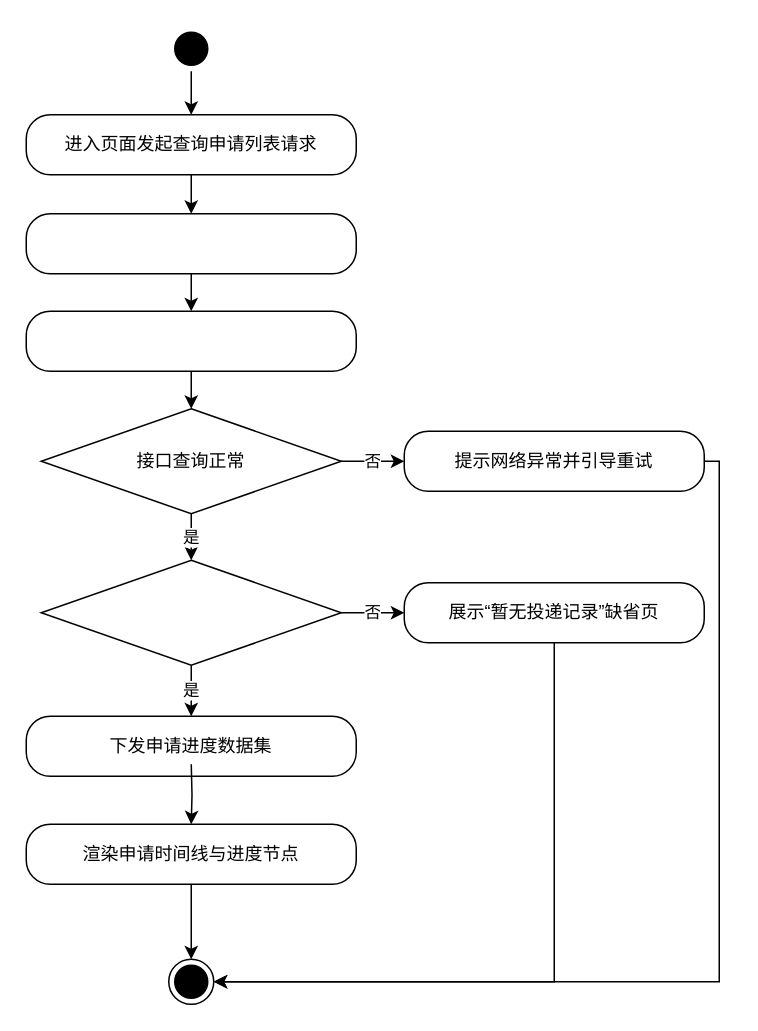
This 758x1031 diagram has some shape labels left out. The centre of each missing label's shape, as x and y in pixels:
是否存在历史申请记录？: point (190, 612)
查询并按时间倒序排列申请记录: point (190, 340)
系统隐式解析会话获取学生身份: point (190, 243)
